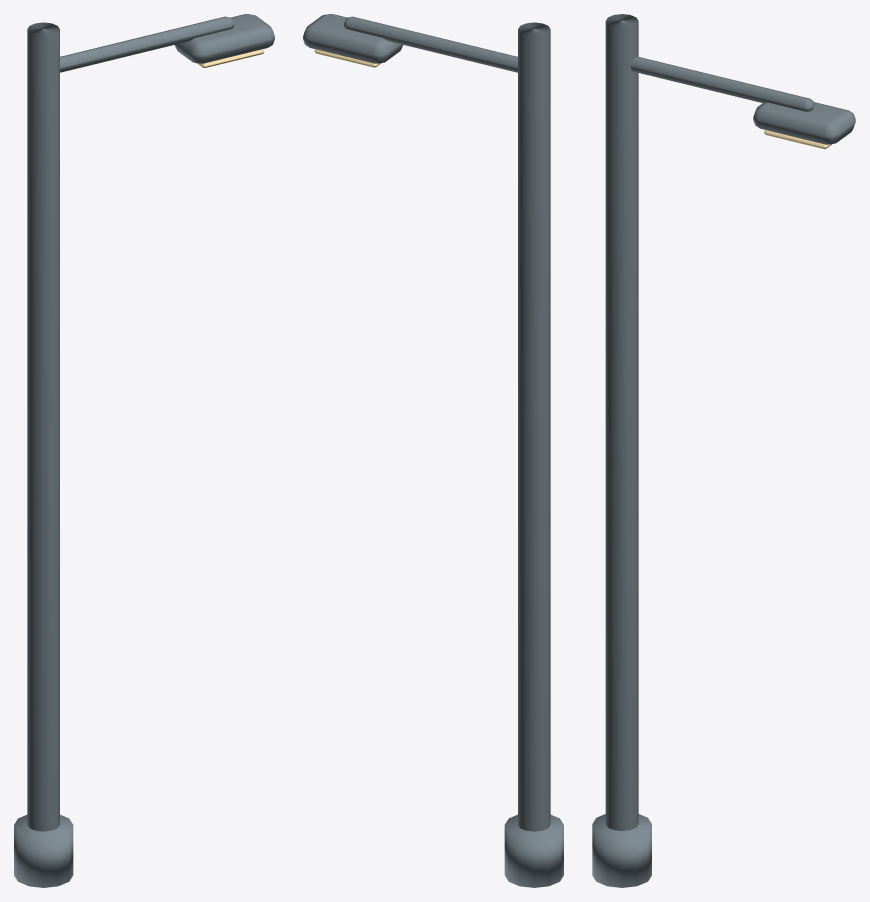
File: Environment_Streetlight_Mountain_6m.fbx
3 renders of one model, left to right at view 1: azimuth 30°, elevation 25°; view 2: azimuth 150°, elevation 25°; view 3: azimuth 330°, elevation 25°, orthographic.
Parts seen in each view (by area): view 1: Streetlight_Pole, Streetlight_Base, Streetlight_Arm, Streetlight_Luminaire; view 2: Streetlight_Pole, Streetlight_Base, Streetlight_Arm, Streetlight_Luminaire; view 3: Streetlight_Pole, Streetlight_Base, Streetlight_Luminaire, Streetlight_Arm.
Part boxes in pixels (box(x1,y1,x2,y2)): Streetlight_Pole: box(27, 22, 59, 831); Streetlight_Base: box(14, 814, 73, 887); Streetlight_Arm: box(60, 16, 233, 72); Streetlight_Luminaire: box(175, 14, 274, 63); Streetlight_Pole: box(518, 22, 550, 831); Streetlight_Base: box(504, 814, 563, 887); Streetlight_Arm: box(344, 16, 517, 72); Streetlight_Luminaire: box(303, 14, 402, 63); Streetlight_Pole: box(605, 14, 638, 830); Streetlight_Base: box(592, 814, 651, 887); Streetlight_Luminaire: box(753, 102, 855, 144); Streetlight_Arm: box(630, 56, 814, 111).
Bounding box in the file's own units: 1.84 × 6 × 0.38.
